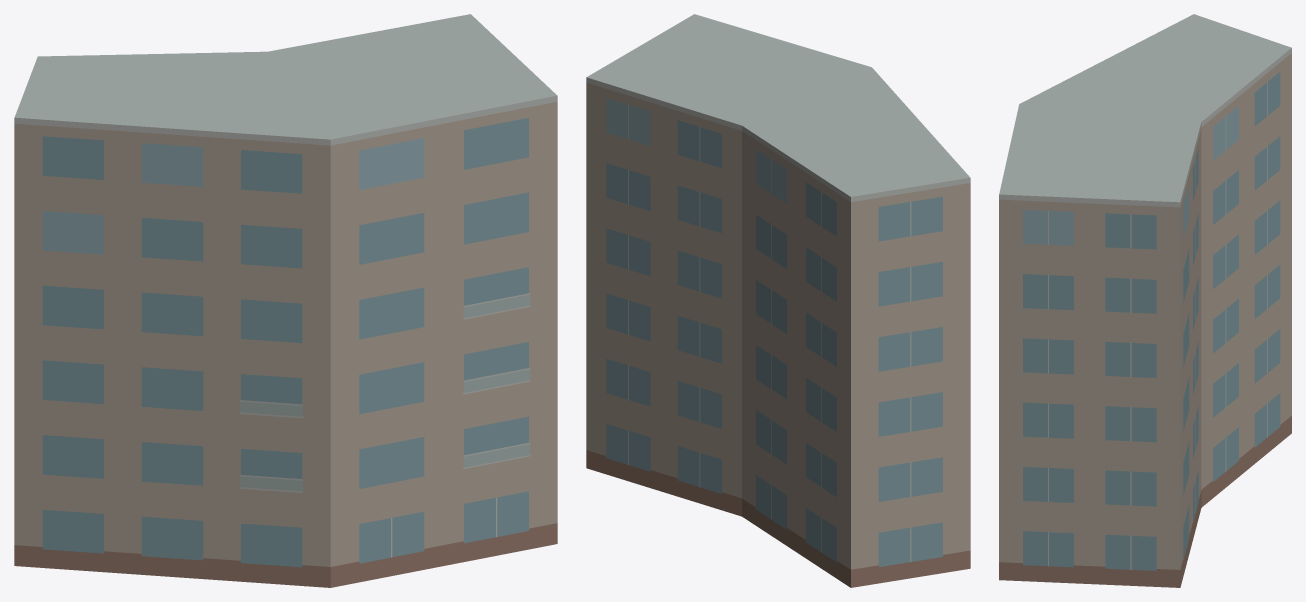
File: survey-upis-32929726.glb
The picture shows the model from 3 angles, left to right: view 1: azimuth 30°, elevation 25°; view 2: azimuth 150°, elevation 25°; view 3: azimuth 270°, elevation 25°; orthographic projection. The views are drawn at different scales.
Parts seen in each view (by area): view 1: survey-upis-32929726.tmp; view 2: survey-upis-32929726.tmp; view 3: survey-upis-32929726.tmp.
Boxes of the visible parts, box(x1,y1,x2,y2) form: survey-upis-32929726.tmp: box(14, 14, 557, 587); survey-upis-32929726.tmp: box(586, 14, 970, 587); survey-upis-32929726.tmp: box(999, 14, 1291, 587).
Size of the model in its own units: 19.17 by 18.3 by 12.6.
